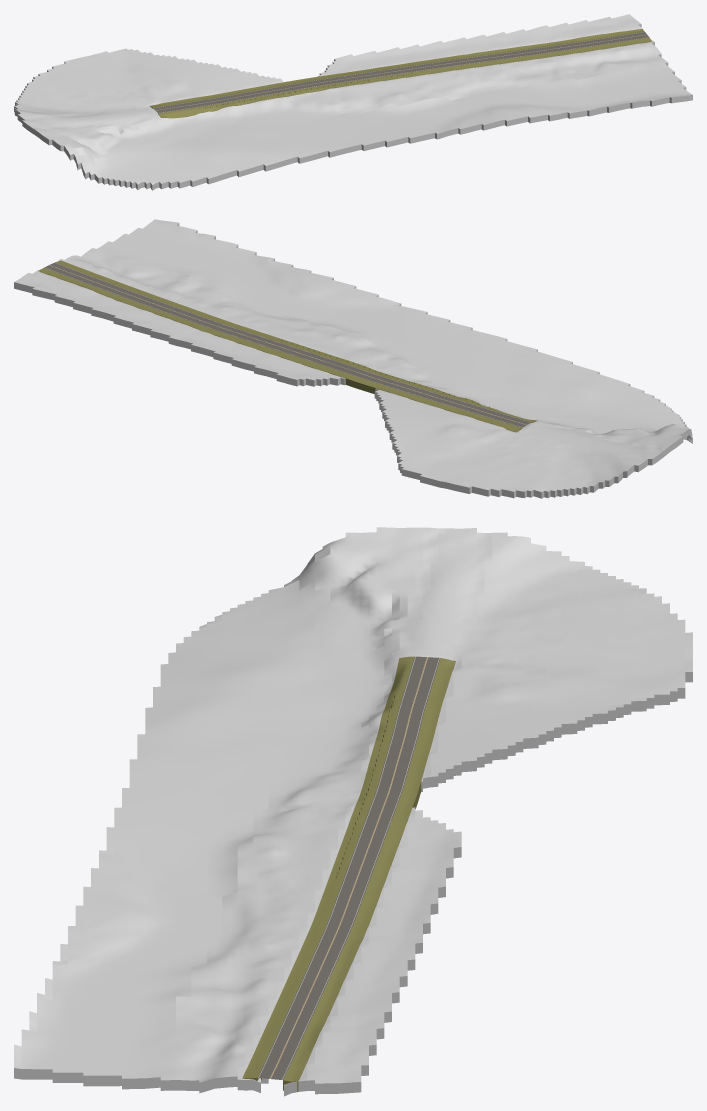
File: conz_89.glb
3 views of the same model, one above another, from view 1: azimuth 30°, elevation 25°; view 2: azimuth 150°, elevation 25°; view 3: azimuth 270°, elevation 25° (orthographic). The views are drawn at different scales.
Visible parts, largest first — view 1: terrain89, road89, verge89R, verge89L, paint_yellow89, paint_white89; view 2: terrain89, road89, verge89L, verge89R, paint_yellow89; view 3: terrain89, road89, verge89L, verge89R, paint_white89.
Boxes of the visible parts, box(x1,y1,x2,y2) form: terrain89: box(14, 14, 692, 190); road89: box(153, 32, 649, 113); verge89R: box(158, 37, 651, 118); verge89L: box(150, 28, 644, 108); paint_yellow89: box(156, 34, 646, 110); paint_white89: box(154, 33, 647, 112); terrain89: box(14, 219, 692, 498); road89: box(44, 262, 531, 427); verge89L: box(38, 268, 522, 432); verge89R: box(55, 260, 537, 422); paint_yellow89: box(50, 265, 526, 424); terrain89: box(14, 527, 692, 1096); road89: box(257, 656, 440, 1079); verge89L: box(283, 658, 455, 1091); verge89R: box(242, 656, 414, 1080); paint_white89: box(258, 656, 439, 1079).
Size of the model in its own units: 326 by 16.55 by 176.
